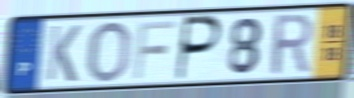8: (227, 16, 263, 77)
F: (131, 18, 178, 81)
K: (44, 23, 83, 84)
O: (85, 19, 133, 84)
P: (173, 14, 224, 83)
R: (269, 11, 314, 78)
